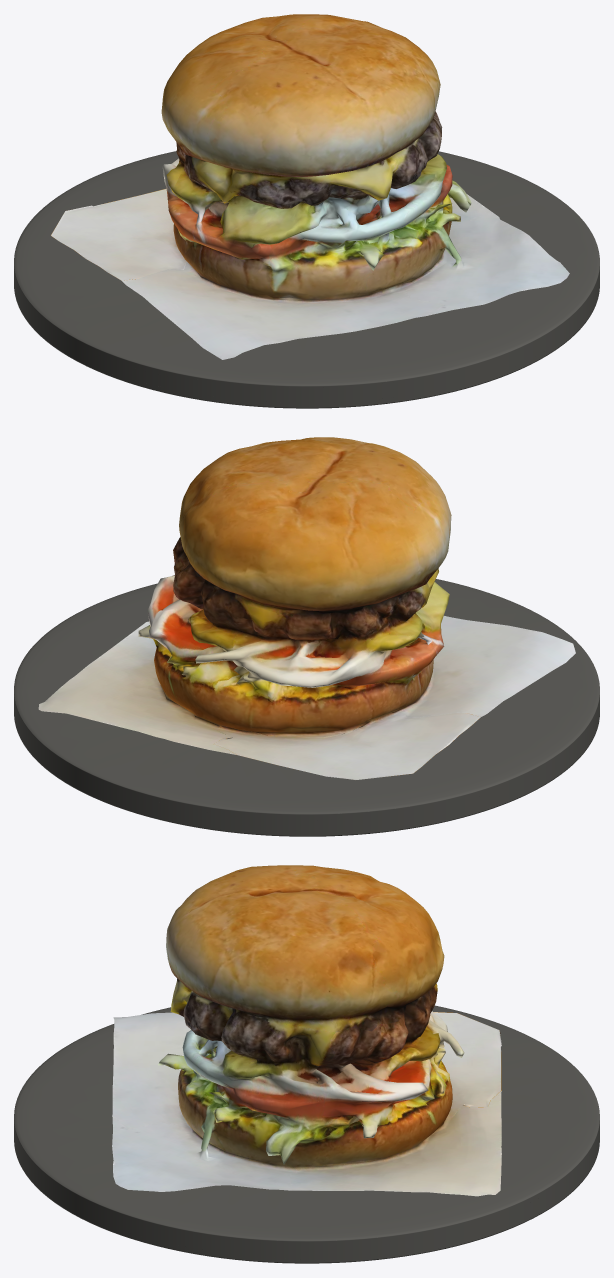
File: hamburguesa.glb
3 renders of one model, top to bottom at view 1: azimuth 30°, elevation 25°; view 2: azimuth 150°, elevation 25°; view 3: azimuth 270°, elevation 25°, orthographic.
Parts seen in each view (by area): view 1: Burger_Low_Res_Burger_Low_Res_0, PM3D_Cylinder3D1_PM3D_Cylinder3D1_0; view 2: Burger_Low_Res_Burger_Low_Res_0, PM3D_Cylinder3D1_PM3D_Cylinder3D1_0; view 3: Burger_Low_Res_Burger_Low_Res_0, PM3D_Cylinder3D1_PM3D_Cylinder3D1_0.
Part boxes in pixels (left/top/right/bottom): Burger_Low_Res_Burger_Low_Res_0: left=51, top=14, right=569, bottom=359; PM3D_Cylinder3D1_PM3D_Cylinder3D1_0: left=14, top=151, right=599, bottom=408; Burger_Low_Res_Burger_Low_Res_0: left=38, top=437, right=575, bottom=780; PM3D_Cylinder3D1_PM3D_Cylinder3D1_0: left=14, top=579, right=599, bottom=836; Burger_Low_Res_Burger_Low_Res_0: left=112, top=865, right=501, bottom=1196; PM3D_Cylinder3D1_PM3D_Cylinder3D1_0: left=14, top=1005, right=599, bottom=1263.
Size of the model in its own units: 0.26 by 0.1216 by 0.26.
2 materials, 1 textured.
